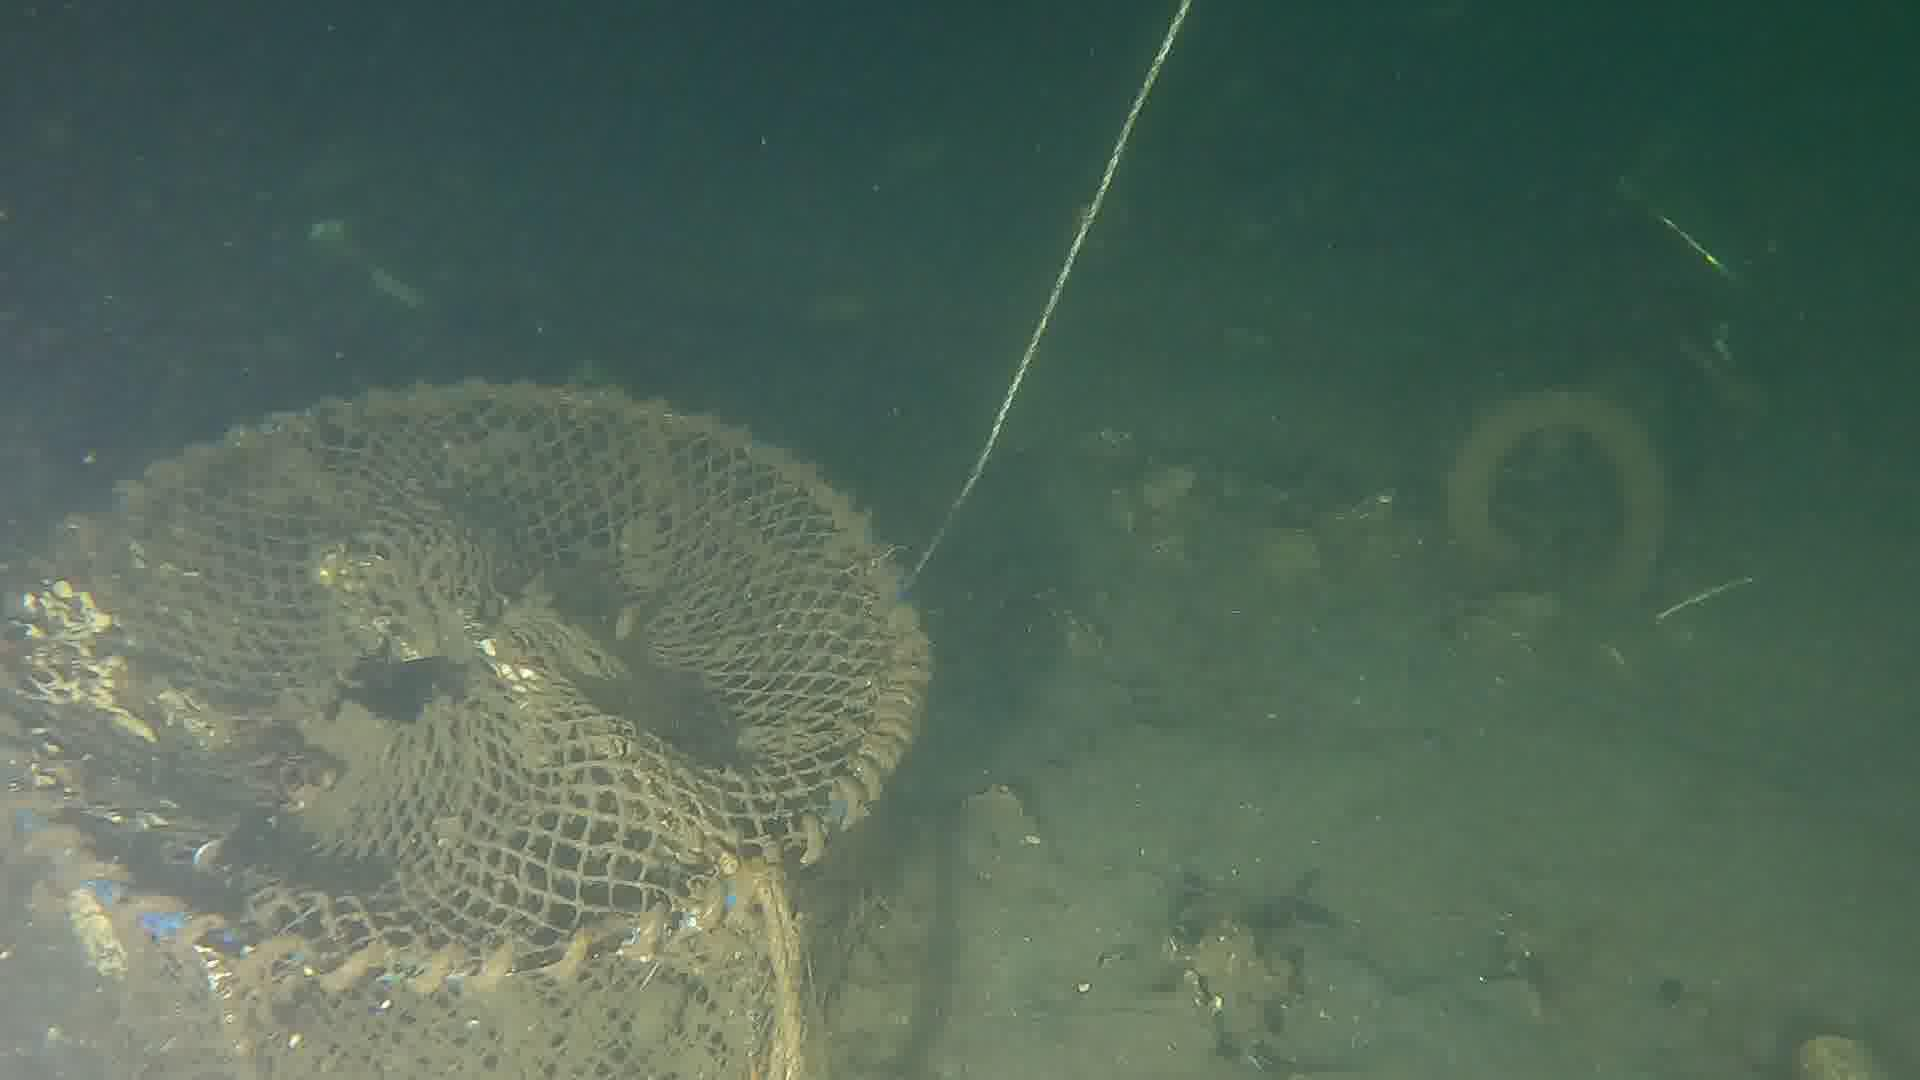circular fish trap: (0, 373, 934, 1080)
